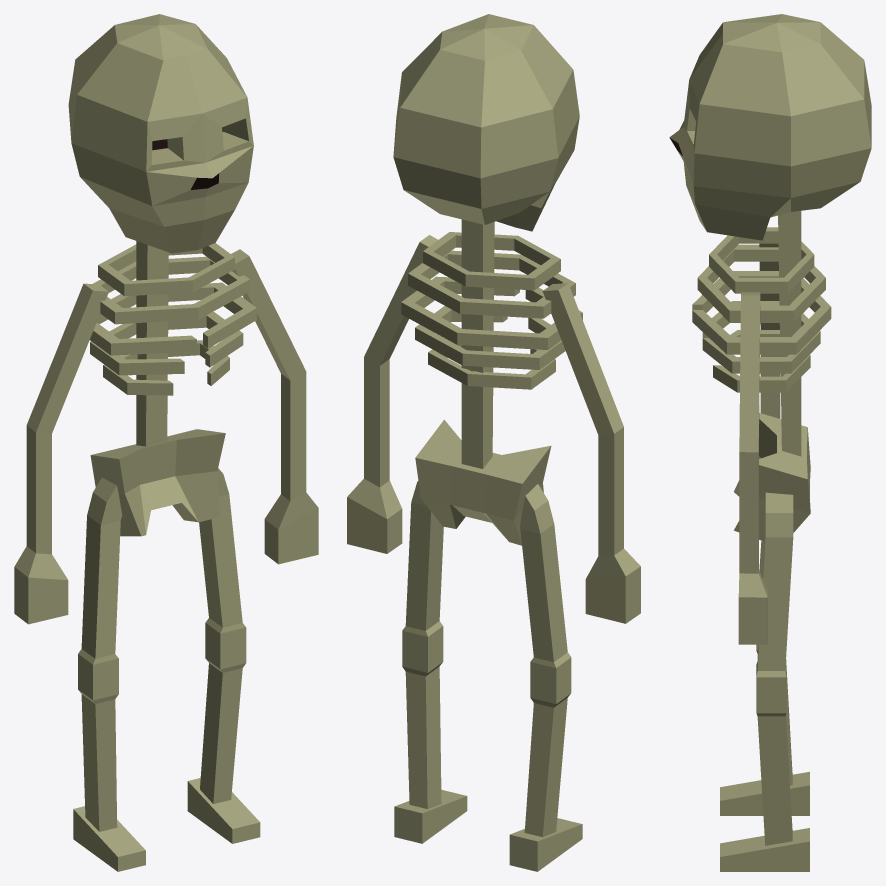
The model's file is Skeleton.fbx.
3 renders of one model, left to right at view 1: azimuth 30°, elevation 25°; view 2: azimuth 150°, elevation 25°; view 3: azimuth 270°, elevation 25°, orthographic.
Visible parts, largest first — view 1: Skeleton; view 2: Skeleton; view 3: Skeleton.
Part boxes in pixels (bbox=[...]): Skeleton: bbox=[14, 14, 318, 871]; Skeleton: bbox=[347, 14, 640, 871]; Skeleton: bbox=[669, 14, 871, 871].
Bounding box in the file's own units: 0.5215 × 1.42 × 0.3201.
